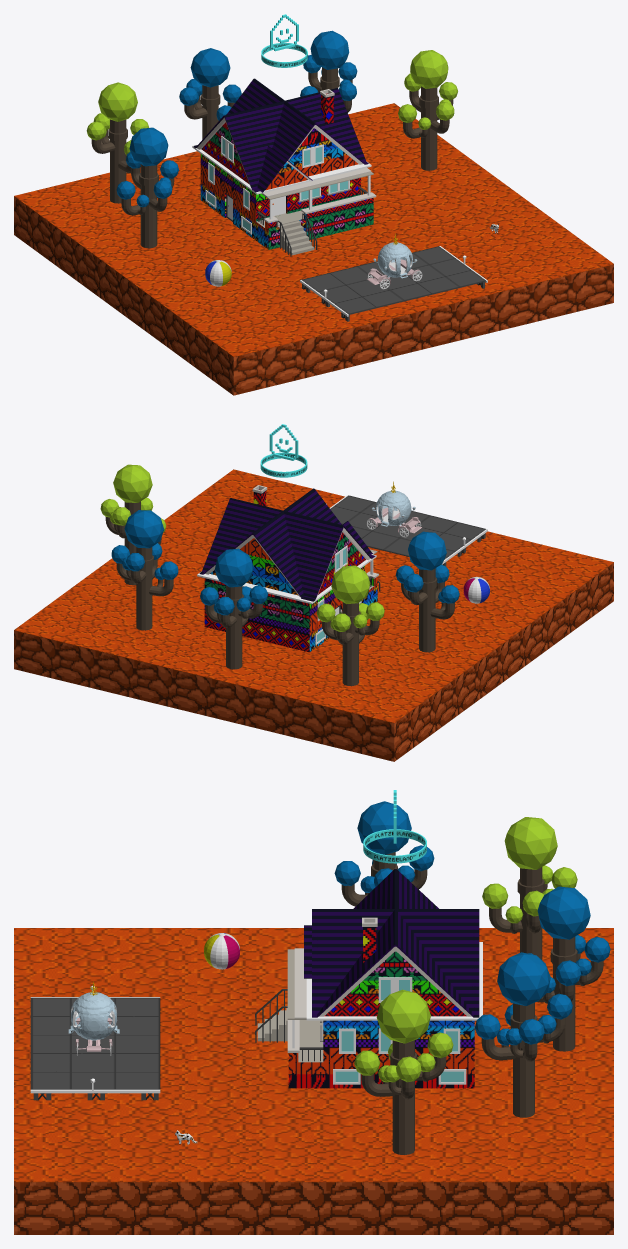
3 renders of one model, top to bottom at view 1: azimuth 30°, elevation 25°; view 2: azimuth 150°, elevation 25°; view 3: azimuth 270°, elevation 25°, orthographic. The views are drawn at different scales.
Visible parts, largest first — view 1: Cube.001, Cube.966, VEHICLES_FANTASY_CARRIAGE, TYPE_PREMIUM, OBJRANDOM_BEACHBALL; view 2: Cube.001, Cube.966, VEHICLES_FANTASY_CARRIAGE, TYPE_PREMIUM, OBJRANDOM_BEACHBALL; view 3: Cube.001, Cube.966, VEHICLES_FANTASY_CARRIAGE, TYPE_PREMIUM, OBJRANDOM_BEACHBALL.
Boxes of the visible parts, left/top/right/bottom form: Cube.001: left=14, top=30, right=613, bottom=395; Cube.966: left=192, top=78, right=376, bottom=256; VEHICLES_FANTASY_CARRIAGE: left=367, top=233, right=422, bottom=289; TYPE_PREMIUM: left=261, top=14, right=307, bottom=67; OBJRANDOM_BEACHBALL: left=205, top=260, right=231, bottom=286; Cube.001: left=14, top=464, right=613, bottom=761; Cube.966: left=197, top=485, right=380, bottom=652; VEHICLES_FANTASY_CARRIAGE: left=366, top=481, right=421, bottom=537; TYPE_PREMIUM: left=260, top=424, right=307, bottom=477; OBJRANDOM_BEACHBALL: left=463, top=576, right=489, bottom=603; Cube.001: left=14, top=801, right=613, bottom=1234; Cube.966: left=255, top=869, right=482, bottom=1088; VEHICLES_FANTASY_CARRIAGE: left=68, top=981, right=119, bottom=1055; TYPE_PREMIUM: left=363, top=790, right=426, bottom=863; OBJRANDOM_BEACHBALL: left=204, top=933, right=239, bottom=969.
Size of the model in its own units: 4000 by 2413 by 4000.
37 materials, 9 textured.
